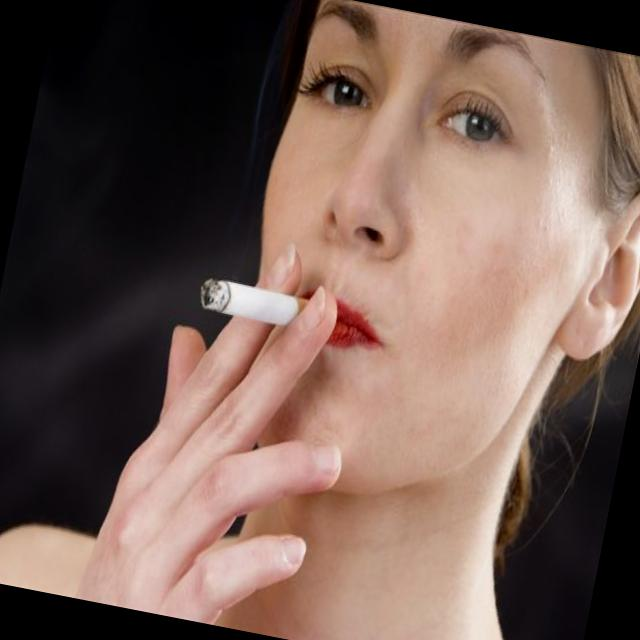smoke: (198, 274, 314, 333)
